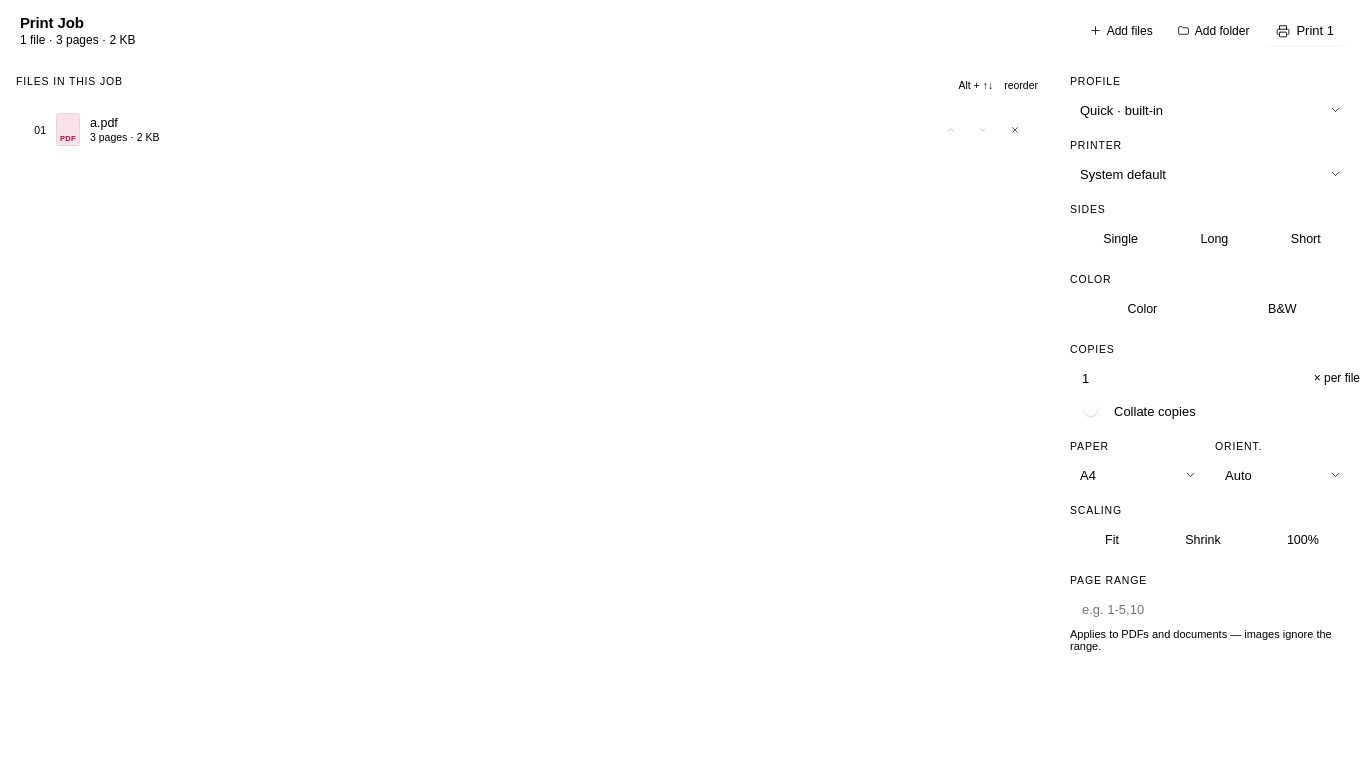
Test case: PrintJobScreen › does not re-add a file already in the list
Step 1. Click the button "Add files" → {"x": 1121, "y": 30}, box [1080,18,1162,42]
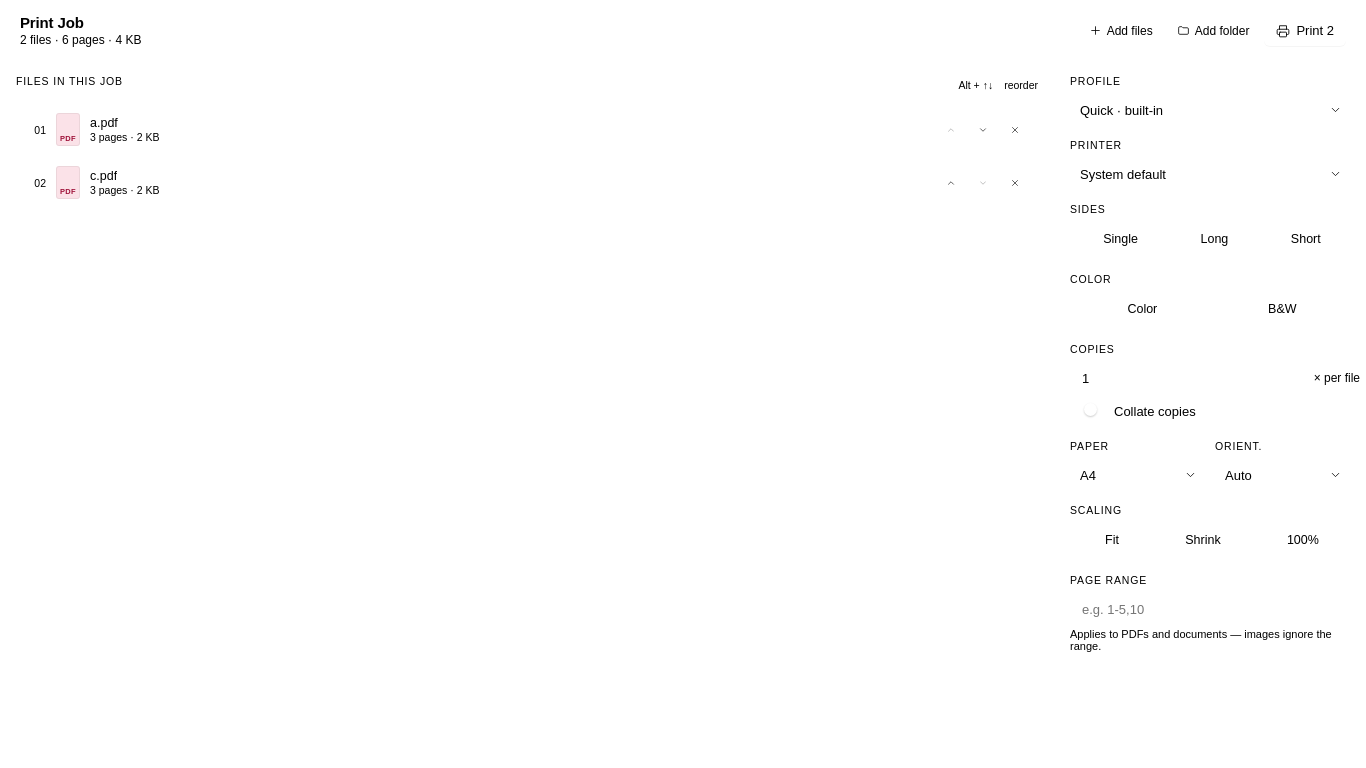
Now the text "c.pdf" is shown, box [90,169,117,183]
Now the text "a.pdf" is shown once, box [90,116,118,130]
